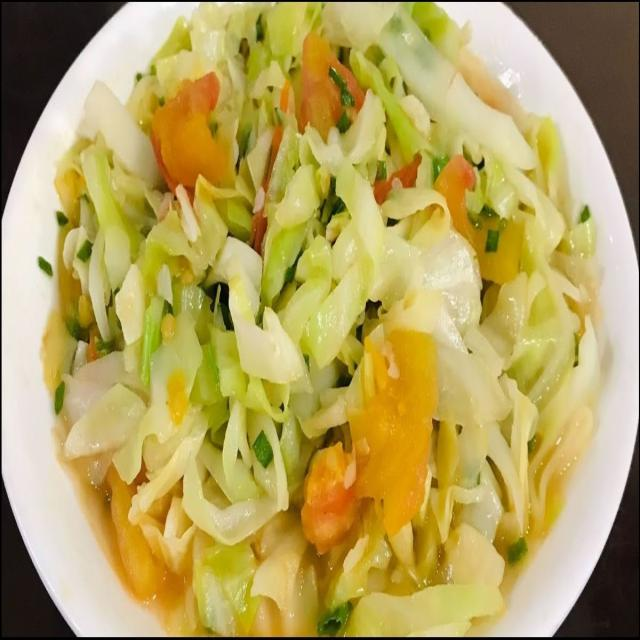bap cai xao: (43, 3, 604, 635)
